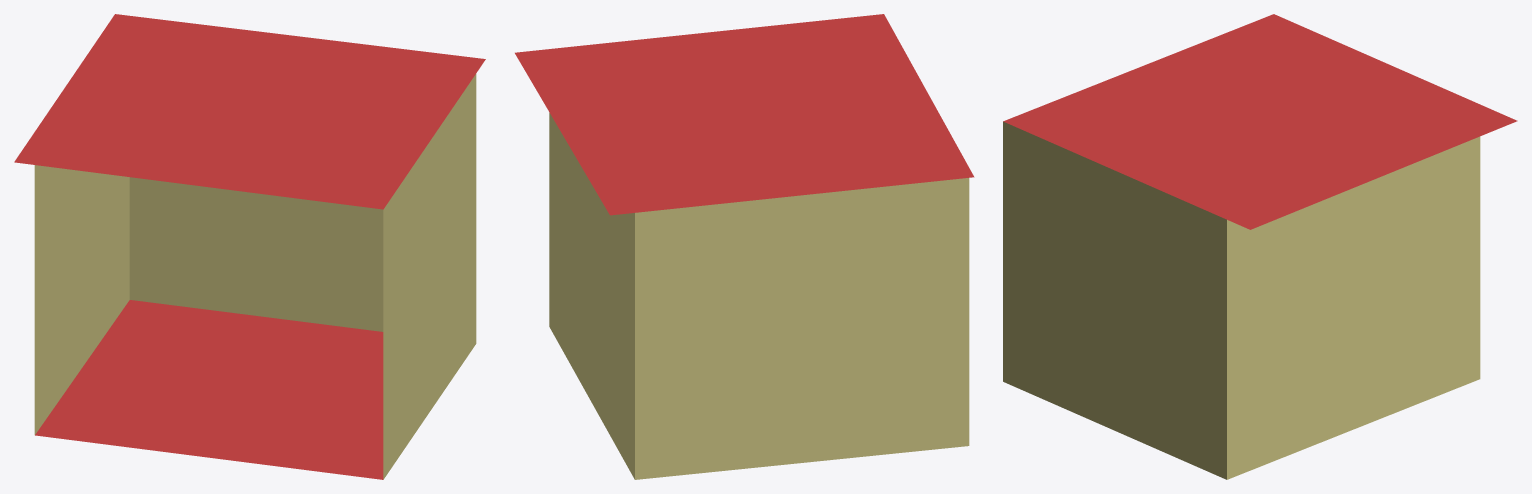
3 renders of one model, left to right at view 1: azimuth 30°, elevation 25°; view 2: azimuth 150°, elevation 25°; view 3: azimuth 270°, elevation 25°, orthographic. The views are drawn at different scales.
Bounding box in the file's own units: 10.31 × 10.39 × 5.79.
